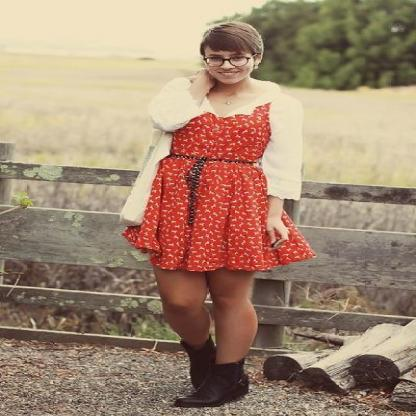dress: (122, 96, 311, 271)
jacket: (112, 78, 303, 224)
shoe: (168, 347, 255, 410)
